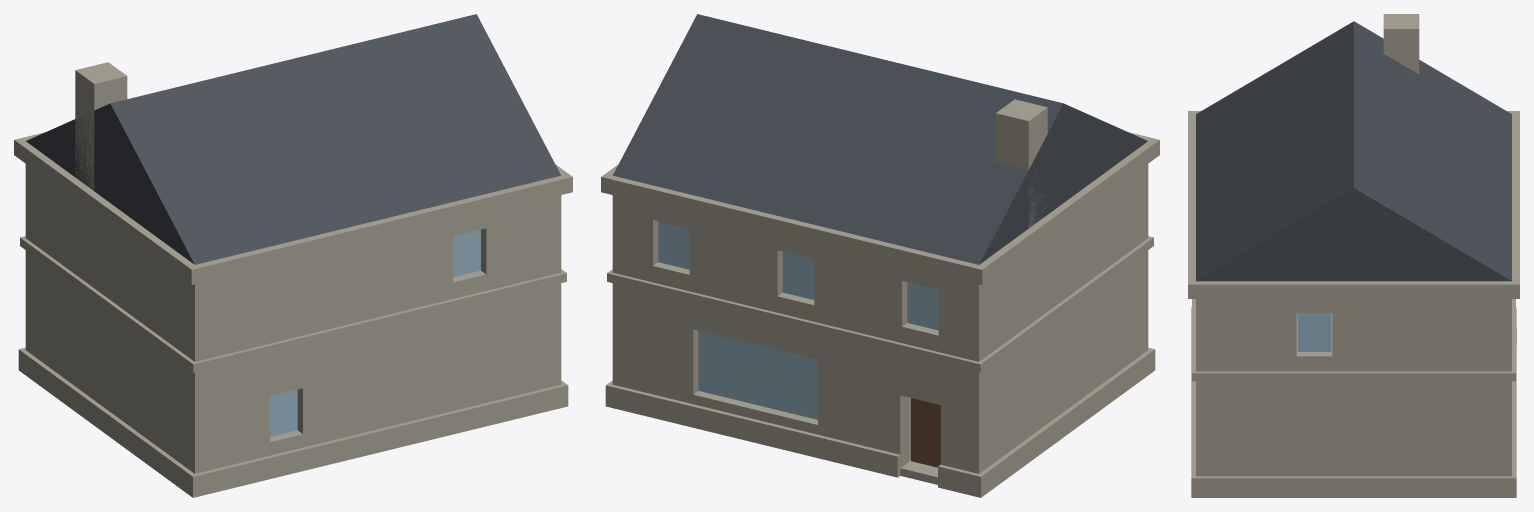
3 views of the same model, side by side, from view 1: azimuth 30°, elevation 25°; view 2: azimuth 150°, elevation 25°; view 3: azimuth 270°, elevation 25° (orthographic). The views are drawn at different scales.
Parts seen in each view (by area): view 1: body_stone, roof_slate, trim_stone, glass_glass (×2); view 2: body_stone, roof_slate, trim_stone, glass_glass (×4), door_timber; view 3: roof_slate, body_stone, trim_stone, glass_glass.
Boxes of the visible parts, left/top/right/bottom form: body_stone: left=25, top=62, right=561, bottom=473; roof_slate: left=26, top=14, right=560, bottom=264; trim_stone: left=14, top=132, right=572, bottom=497; glass_glass (×2): left=270, top=230, right=480, bottom=436; body_stone: left=612, top=99, right=1148, bottom=484; roof_slate: left=613, top=14, right=1147, bottom=264; trim_stone: left=601, top=132, right=1159, bottom=497; glass_glass (×4): left=658, top=221, right=938, bottom=419; door_timber: left=910, top=398, right=940, bottom=467; roof_slate: left=1196, top=21, right=1511, bottom=281; body_stone: left=1196, top=14, right=1511, bottom=476; trim_stone: left=1188, top=111, right=1519, bottom=497; glass_glass: left=1297, top=313, right=1331, bottom=351.
Size of what is drawn, in the model's own units: 10.4 by 8.8 by 8.4.
